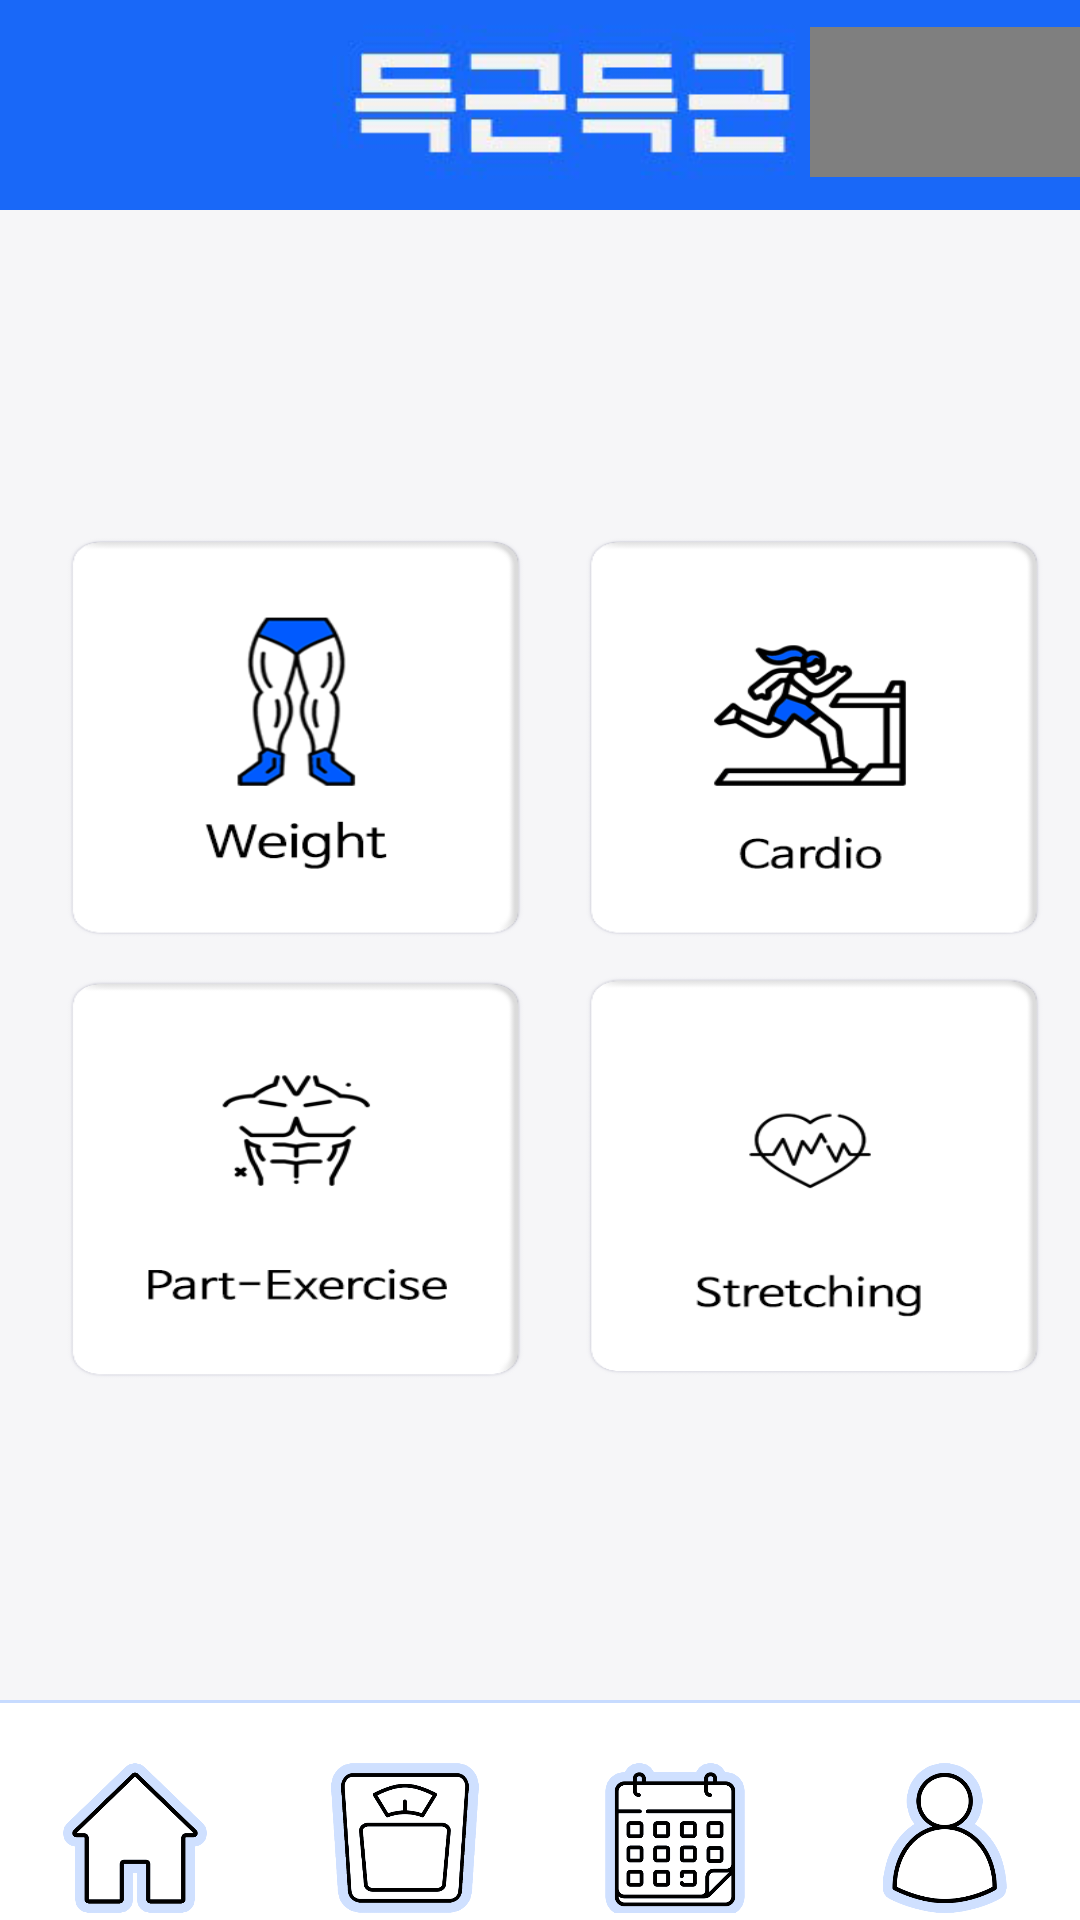

Named icons in this screenshot (1080w x 1920h) and their bounding boxes, (x1, y1, x2, y2):
calendar: (605, 1763, 745, 1913)
home: (63, 1763, 207, 1913)
mypage: (883, 1763, 1007, 1913)
scale: (331, 1763, 479, 1913)
